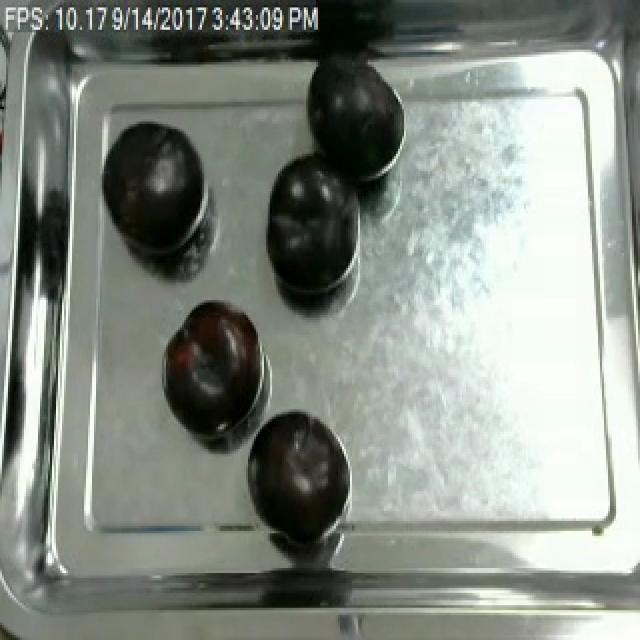Fruit: (258, 144, 360, 307), (98, 119, 212, 261), (298, 54, 410, 188), (160, 295, 264, 439), (246, 404, 338, 538)
